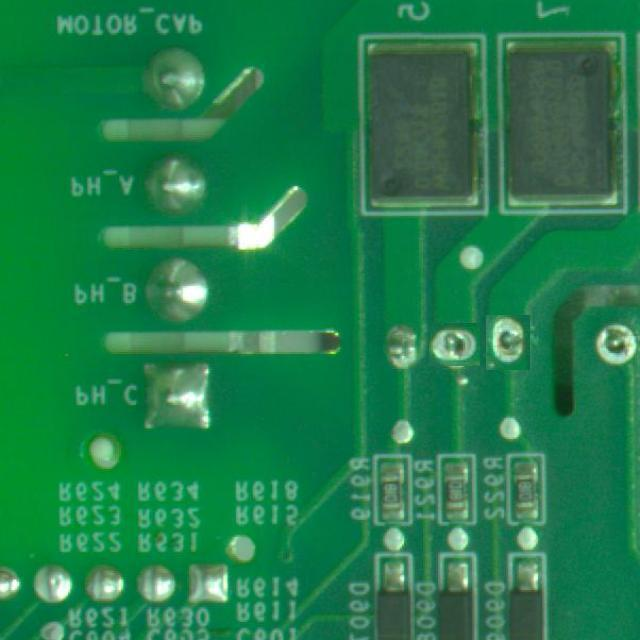lack_of_part: (589, 316, 640, 374), (486, 316, 530, 372), (431, 321, 478, 369)
